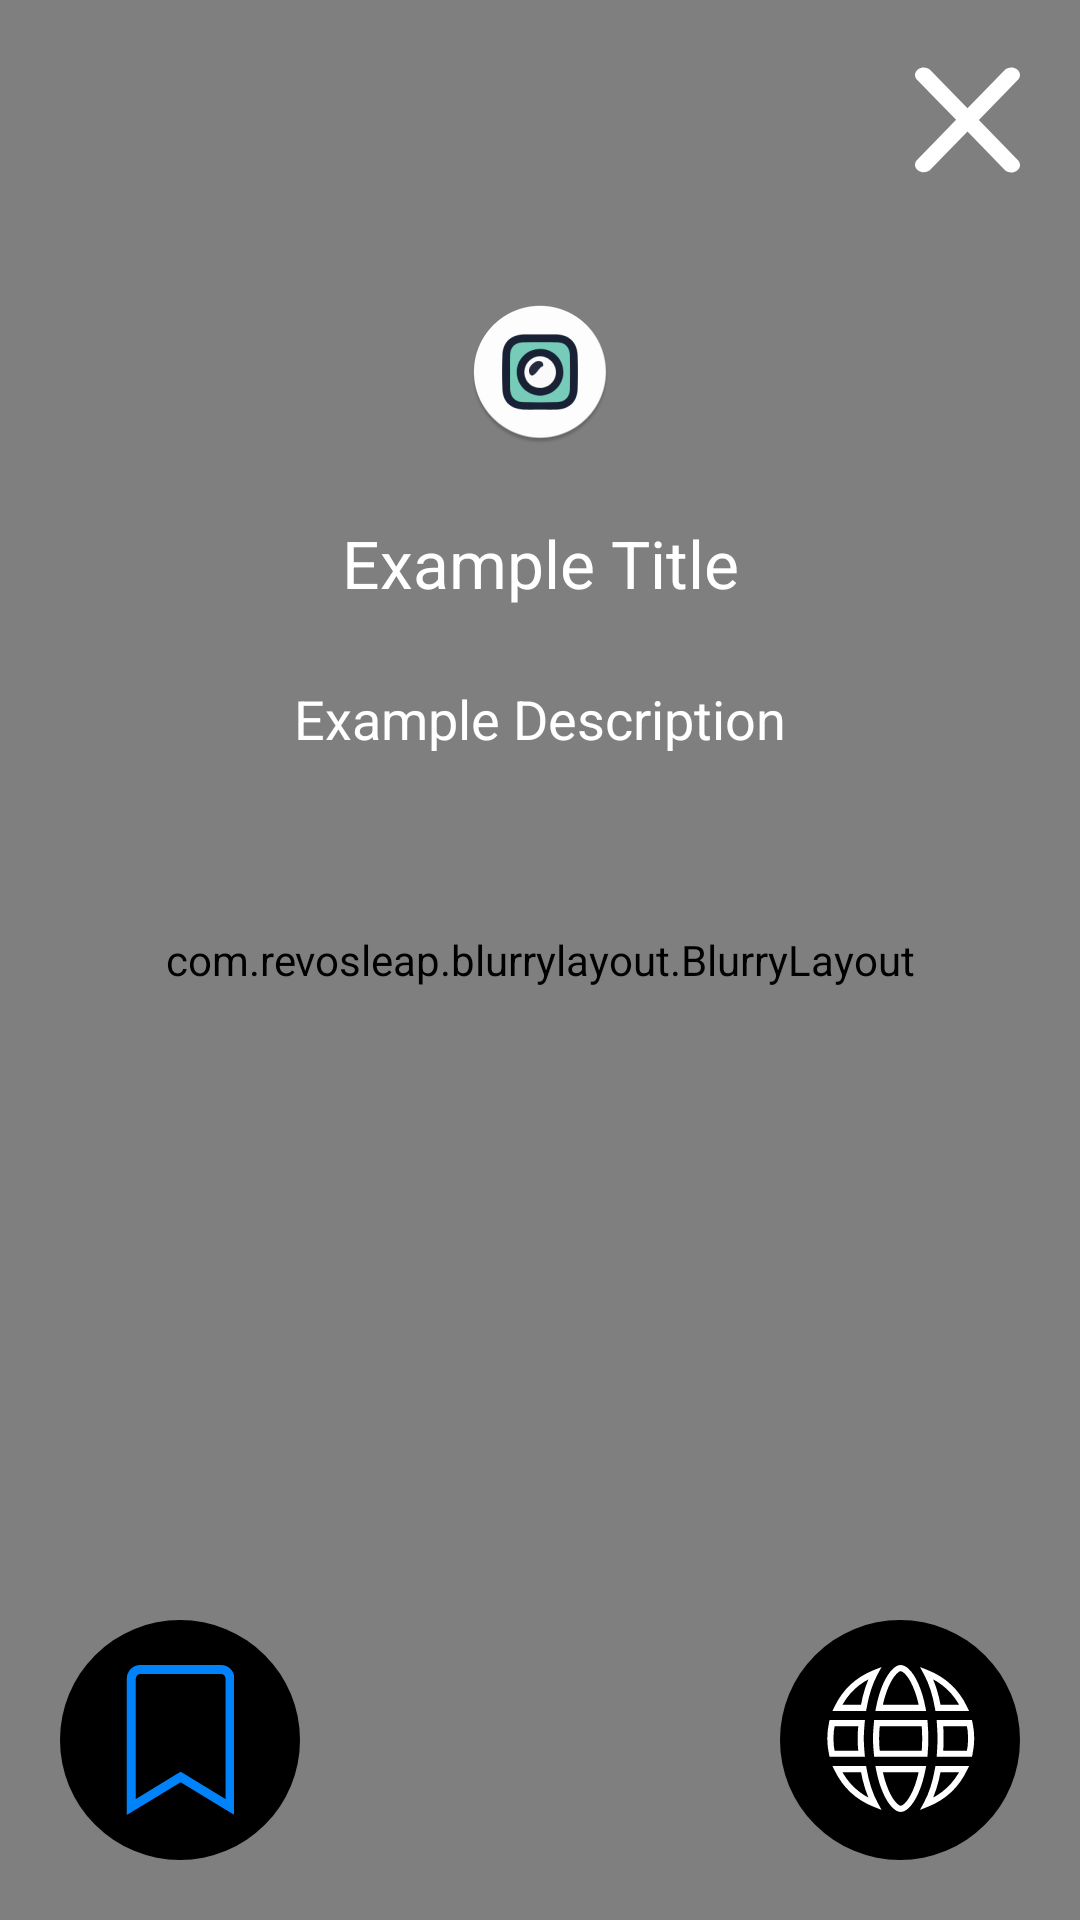

Where to tap for icons on this 1080px×1920px app screen, as (x=x, y=y):
bookmark stroke: (x=180, y=1740)
globe stroke: (x=900, y=1740)
